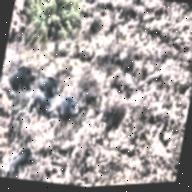boar: (0, 137, 37, 176), (52, 92, 89, 130), (3, 54, 37, 94), (31, 85, 51, 118), (44, 70, 64, 91)
